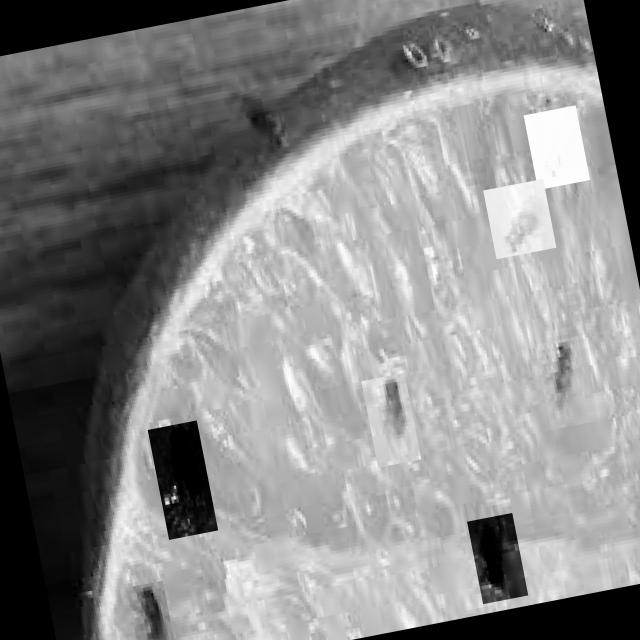fruit fly: (148, 420, 218, 540), (534, 335, 602, 430), (484, 179, 556, 259), (362, 372, 422, 468), (467, 512, 528, 604), (524, 105, 590, 190), (126, 581, 179, 640)
